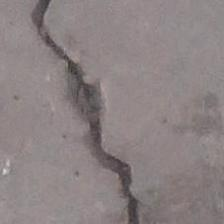Crack: (6, 0, 182, 222)
